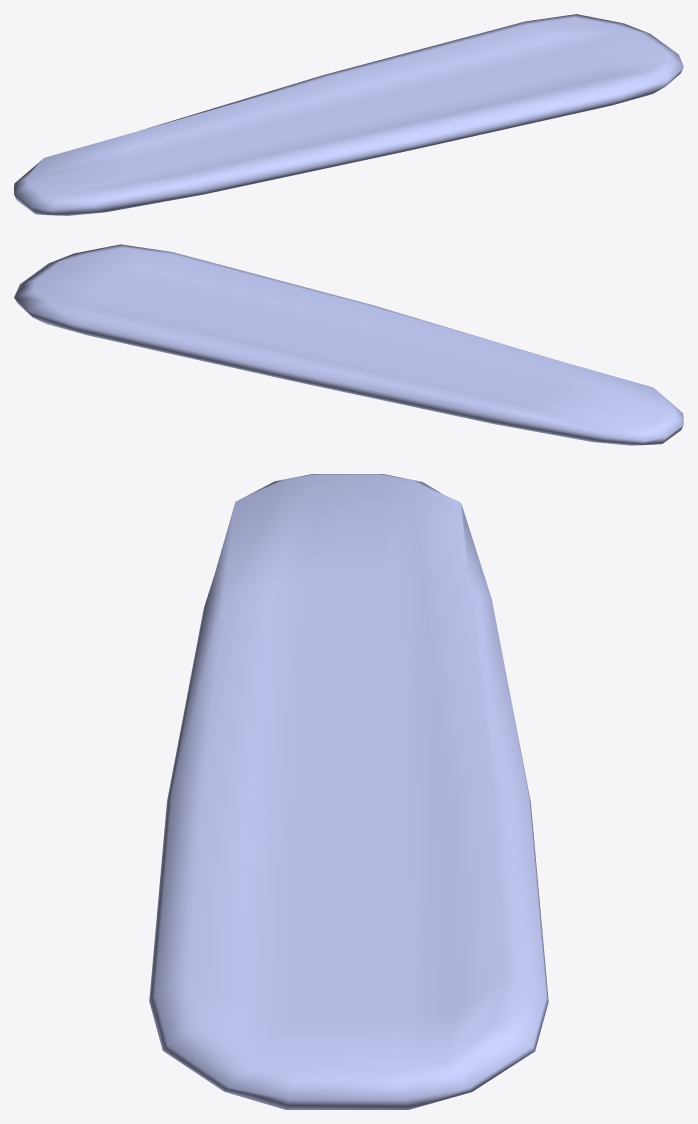
File: TunnelFloor.fbx
3 renders of one model, top to bottom at view 1: azimuth 30°, elevation 25°; view 2: azimuth 150°, elevation 25°; view 3: azimuth 270°, elevation 25°, orthographic. The views are drawn at different scales.
Visible parts, largest first — view 1: TunnelFloor; view 2: TunnelFloor; view 3: TunnelFloor.
Part boxes in pixels (<box>): TunnelFloor: <box>14,14,683,215</box>; TunnelFloor: <box>14,244,683,445</box>; TunnelFloor: <box>149,474,548,1109</box>.
Size of the model in its own units: 998 by 38.05 by 269.
